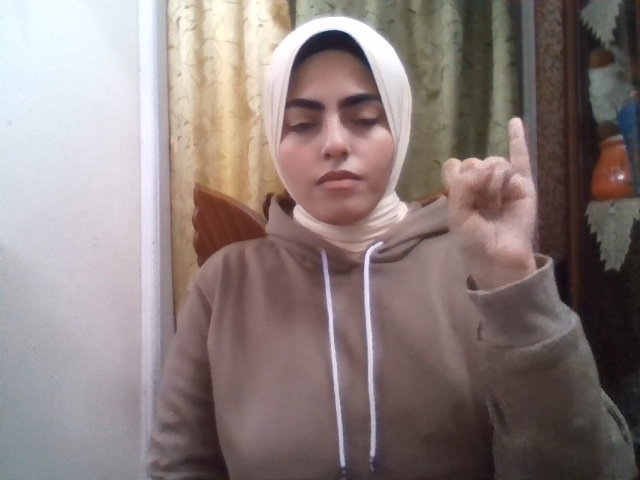I: (442, 116, 537, 277)
